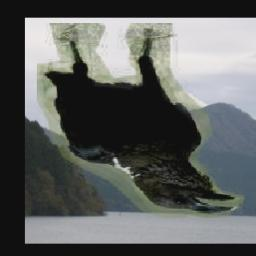Crow: (38, 24, 246, 219)
